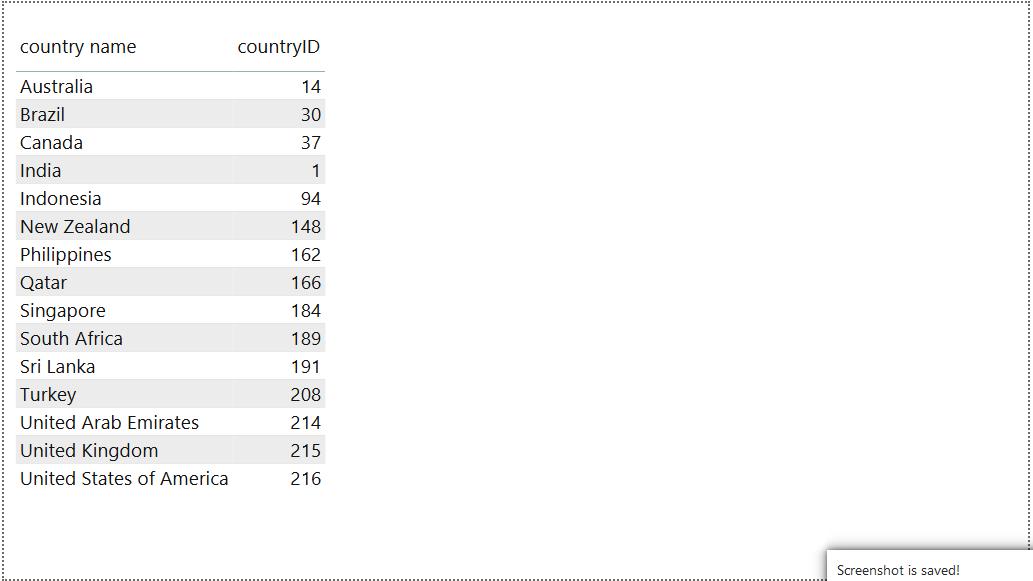

What the dashboard file says about the page in this screenshot:
{"tool":"powerbi","page":{"name":"Country Data","canvas":[1280,720],"ordinal":1},"visuals":[{"type":"tableEx","fields":{"Values":["Sheet2.country name","Sheet2.countryID"]},"box":[9.3,30.2,405.8,600],"z":0}]}

Visuals, with their boxes in screenshot pixels (x1, y1, x2, y2), scaled from the page's 1280x720 canvas onto the 1033x581 screenshot:
tableEx - Sheet2.country name x Sheet2.countryID: rect(8, 24, 335, 509)
